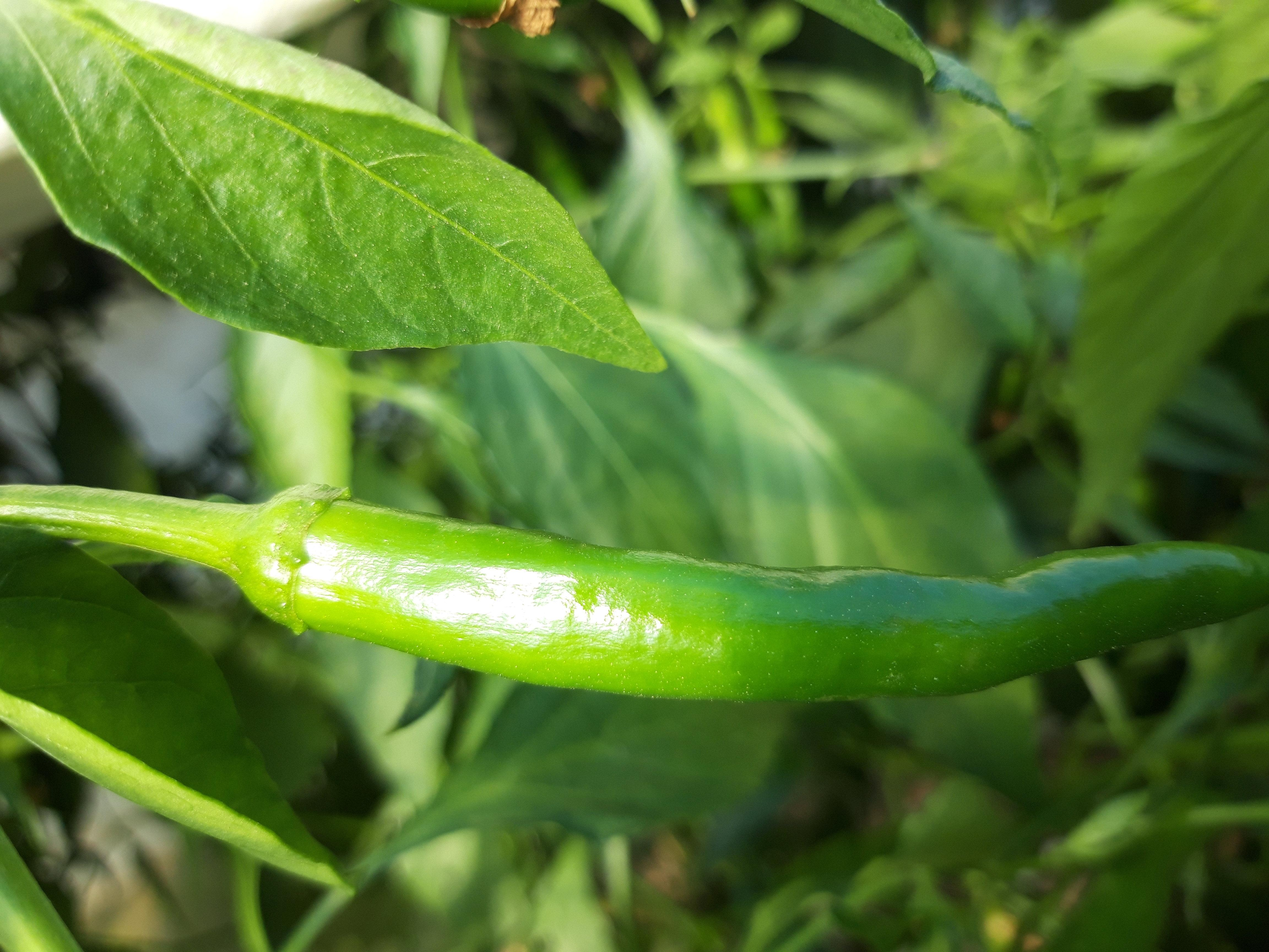Buah Cabai Sehat: (235, 477, 1266, 707)
Daun Cabai Sehat: (0, 0, 670, 382)
